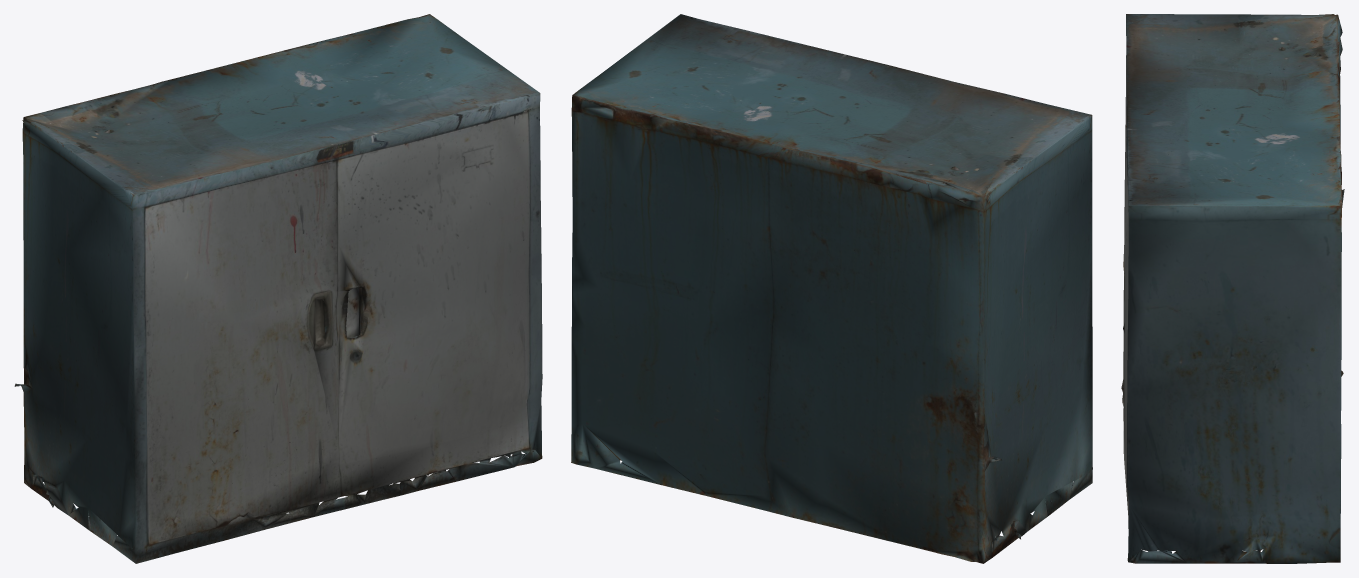
Rendered from Old Tin Cabinet.fbx.
3 renders of one model, left to right at view 1: azimuth 30°, elevation 25°; view 2: azimuth 150°, elevation 25°; view 3: azimuth 270°, elevation 25°, orthographic. The views are drawn at different scales.
Parts seen in each view (by area): view 1: Old Tin Cabinet; view 2: Old Tin Cabinet; view 3: Old Tin Cabinet.
Part boxes in pixels (bbox=[...]): Old Tin Cabinet: bbox=[14, 14, 542, 563]; Old Tin Cabinet: bbox=[571, 14, 1092, 563]; Old Tin Cabinet: bbox=[1121, 14, 1344, 563].
Size of the model in its own units: 79.75 by 66.28 by 37.23.
Materials: 1 (1 with a texture image).
